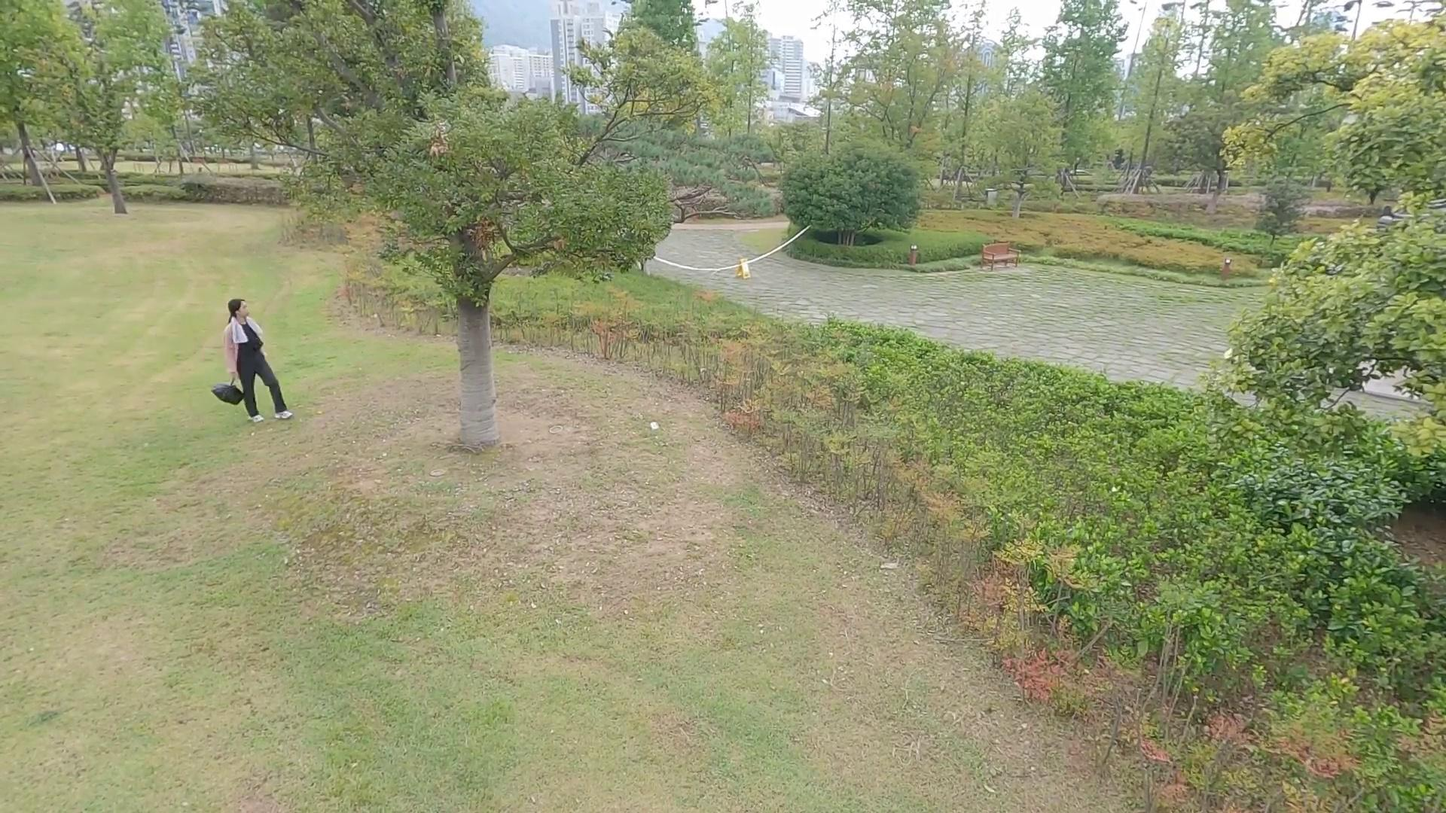person: (221, 298, 296, 425)
trash: (212, 374, 241, 405), (651, 421, 659, 430)
